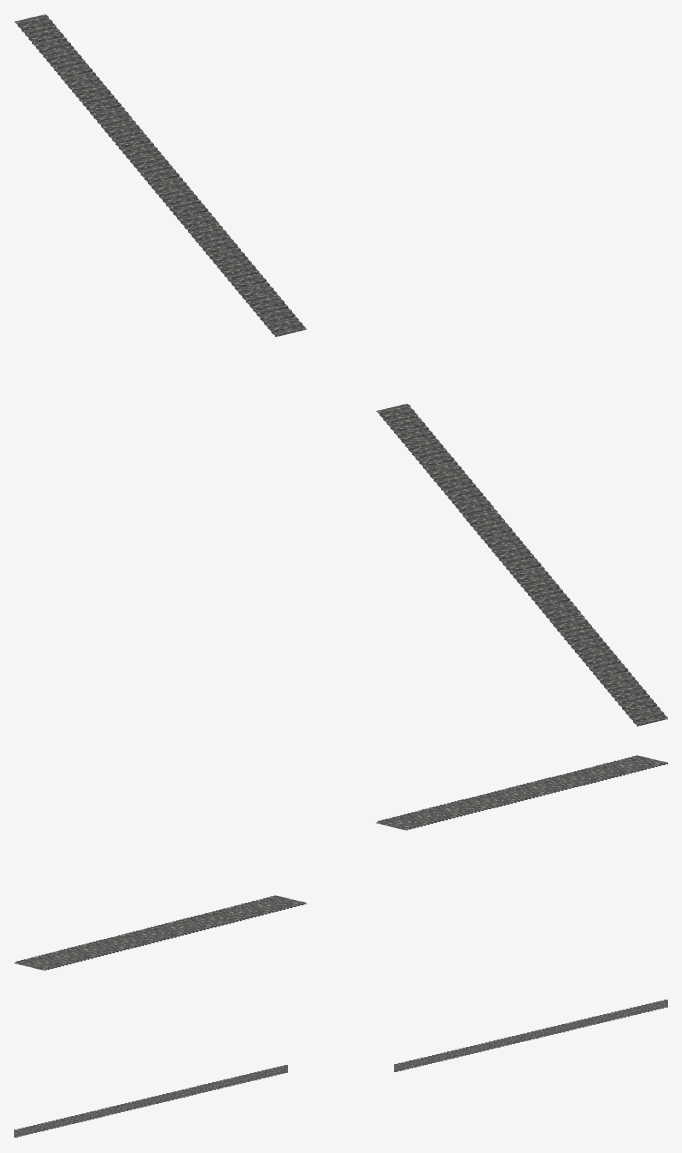
Rendered from stair.fbx.
3 renders of one model, top to bottom at view 1: azimuth 30°, elevation 25°; view 2: azimuth 150°, elevation 25°; view 3: azimuth 270°, elevation 25°, orthographic. The views are drawn at different scales.
Visible parts, largest first — view 1: Stairs; view 2: Stairs; view 3: Stairs.
Boxes of the visible parts, left/top/right/bottom form: Stairs: left=14, top=14, right=667, bottom=726; Stairs: left=14, top=755, right=667, bottom=970; Stairs: left=14, top=999, right=667, bottom=1137.
Bounding box in the file's own units: 381 × 2896 × 13099.
Materials: 1 (1 with a texture image).
